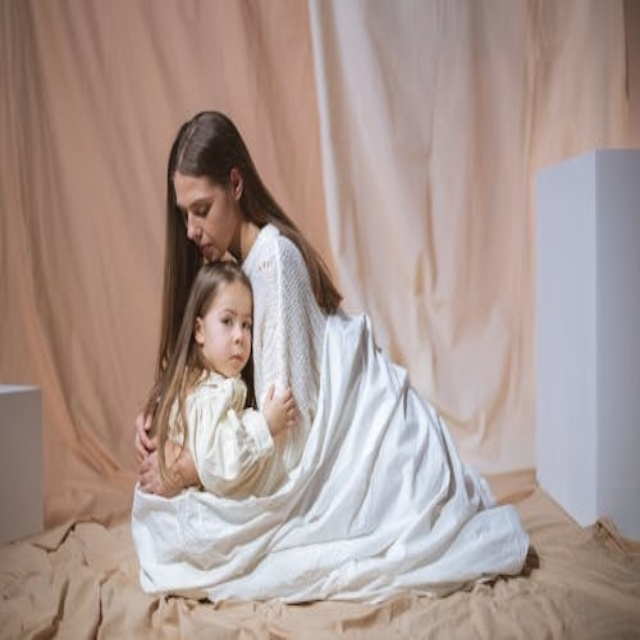Sin_gafas: (214, 298, 255, 338), (173, 190, 220, 223)
Sin_guantes: (261, 383, 297, 439), (137, 445, 171, 497)
Sin_mascara: (223, 344, 247, 373), (195, 238, 220, 263)
